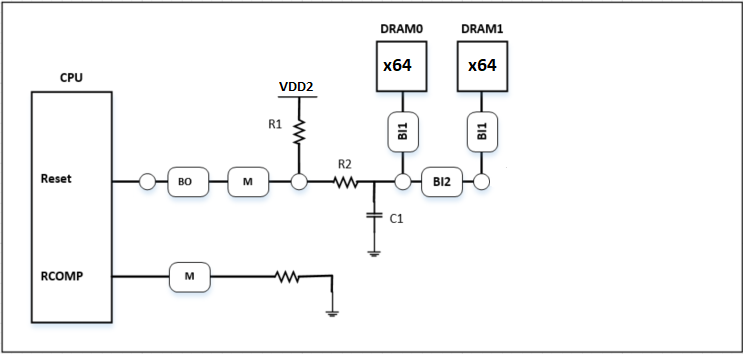capacitor: (360, 205, 385, 223)
circle: (133, 168, 158, 194), (287, 168, 312, 194), (389, 168, 414, 194), (469, 168, 494, 194)
ground: (361, 244, 392, 261), (316, 305, 347, 322)
oval: (161, 256, 215, 297), (164, 159, 218, 200), (222, 159, 276, 200), (382, 110, 421, 157), (460, 107, 499, 154), (419, 157, 463, 198)
power: (271, 77, 322, 109)
rectangle: (23, 84, 119, 326), (372, 39, 430, 95), (453, 38, 511, 94)
resistor: (266, 264, 308, 287), (325, 169, 367, 192), (288, 113, 312, 147)
